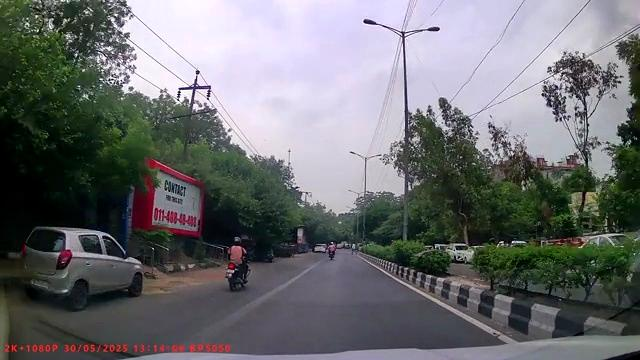motorcycle_with_helmet: (225, 236, 251, 292)
